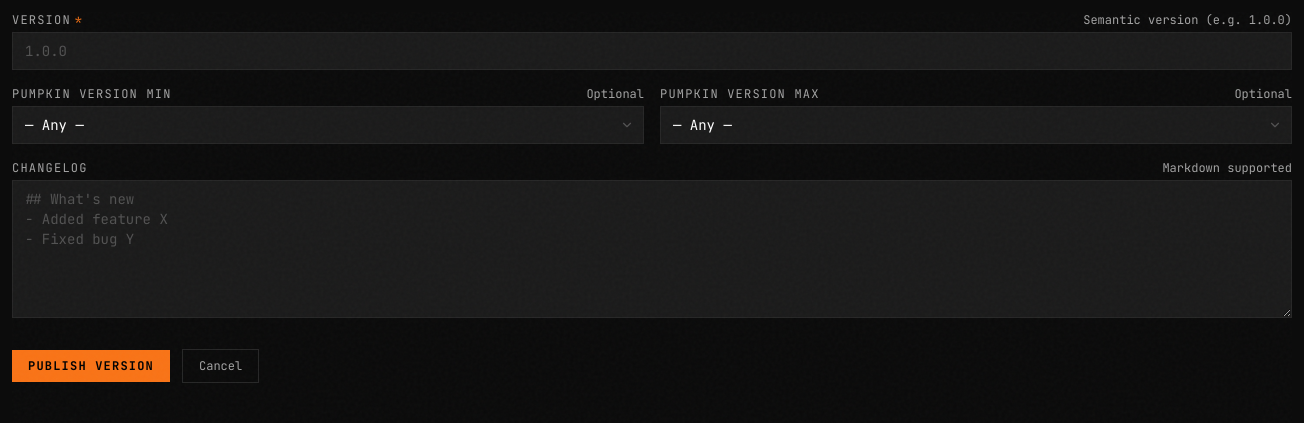
it: VersionForm › validates semver before submit
The width and height of the screenshot is (1304, 423).
Type "bad-semver" into the field with placeholder "1.0.0" at (652, 51), box [12, 32, 1292, 70]
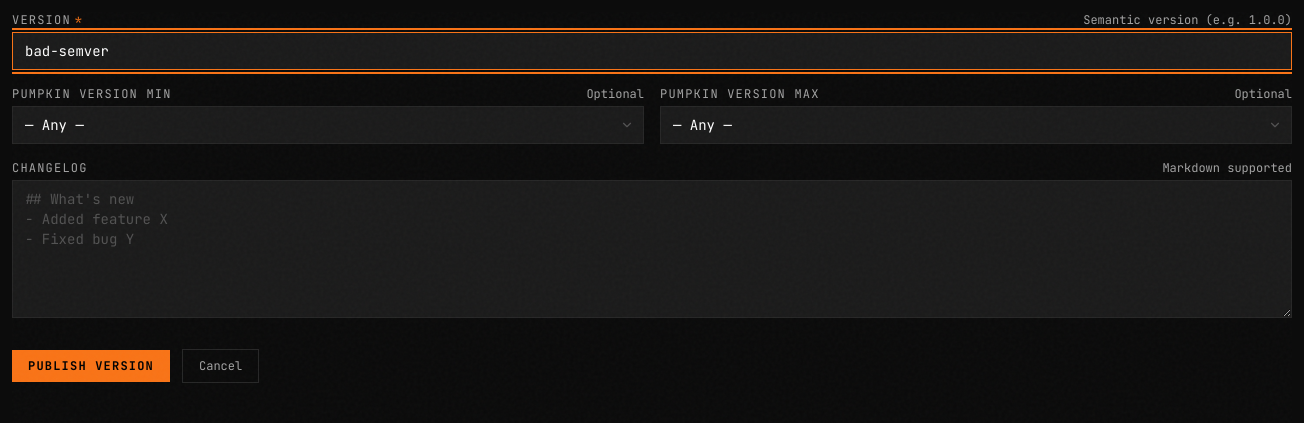
Click the button "Publish Version" at (91, 366), box [12, 350, 170, 382]
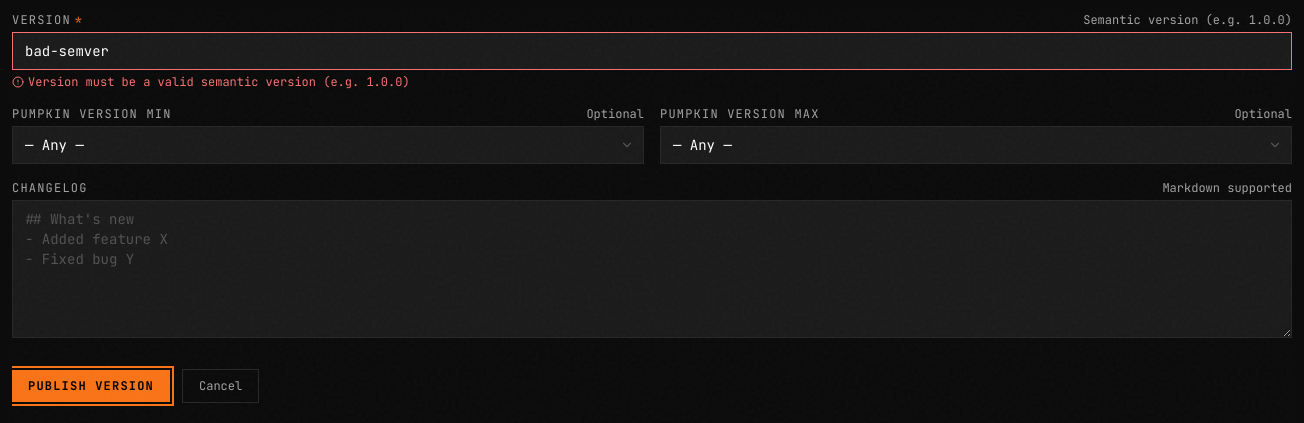
Now the text "Version must be a valid semantic version (e.g. 1.0.0)" is shown, box [12, 74, 410, 90]
